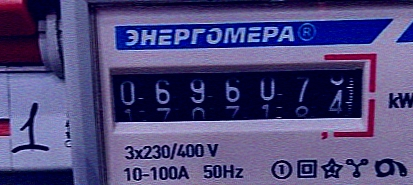0: (116, 78, 136, 109), (257, 73, 276, 104)
4: (324, 88, 343, 117)
6: (150, 77, 172, 107), (222, 76, 241, 104)
7: (292, 74, 309, 104)
9: (187, 77, 205, 107)
screen: (91, 48, 377, 142)
